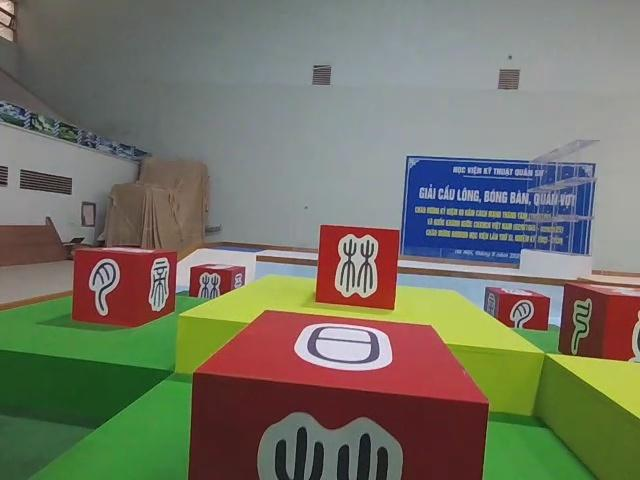R2 Fake: (186, 305, 491, 480), (70, 244, 179, 331), (312, 222, 402, 312), (555, 278, 640, 367), (482, 283, 554, 337), (187, 260, 248, 307)
